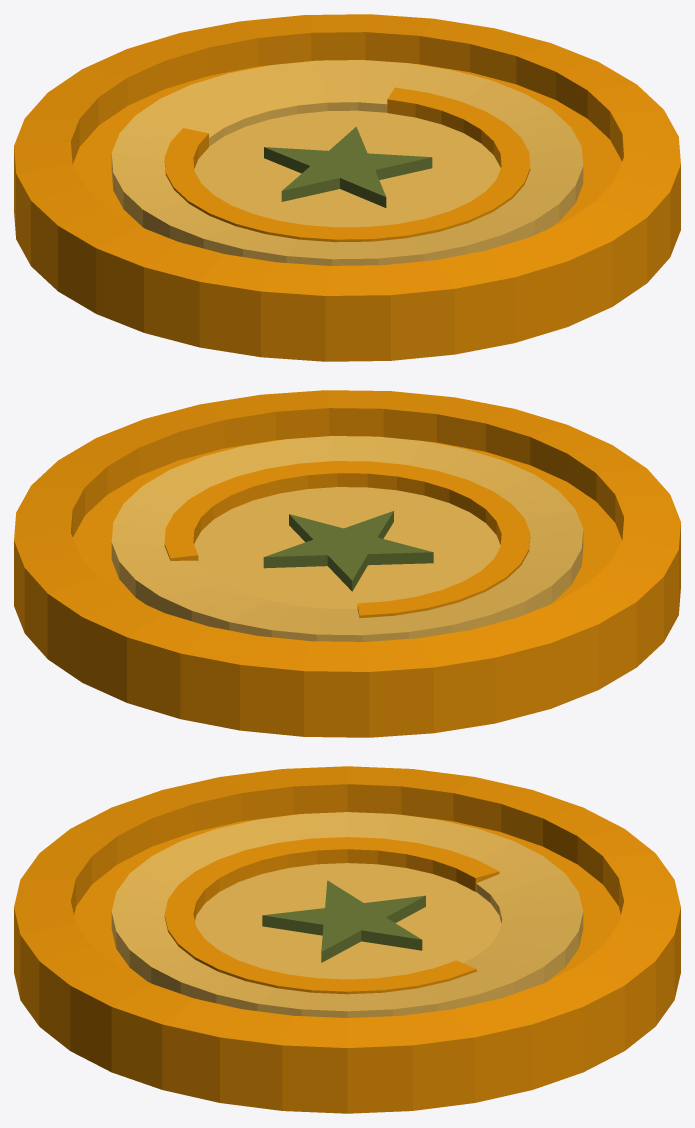
Rendered from coin.fbx.
3 views of the same model, one above another, from view 1: azimuth 30°, elevation 25°; view 2: azimuth 150°, elevation 25°; view 3: azimuth 270°, elevation 25° (orthographic).
Visible parts, largest first — view 1: 큐브; view 2: 큐브; view 3: 큐브.
Boxes of the visible parts, x1=… form: 큐브: x1=14, y1=14, x2=680, y2=361; 큐브: x1=14, y1=390, x2=680, y2=737; 큐브: x1=14, y1=766, x2=680, y2=1113.
Bounding box in the file's own units: 403 × 47.81 × 403.
